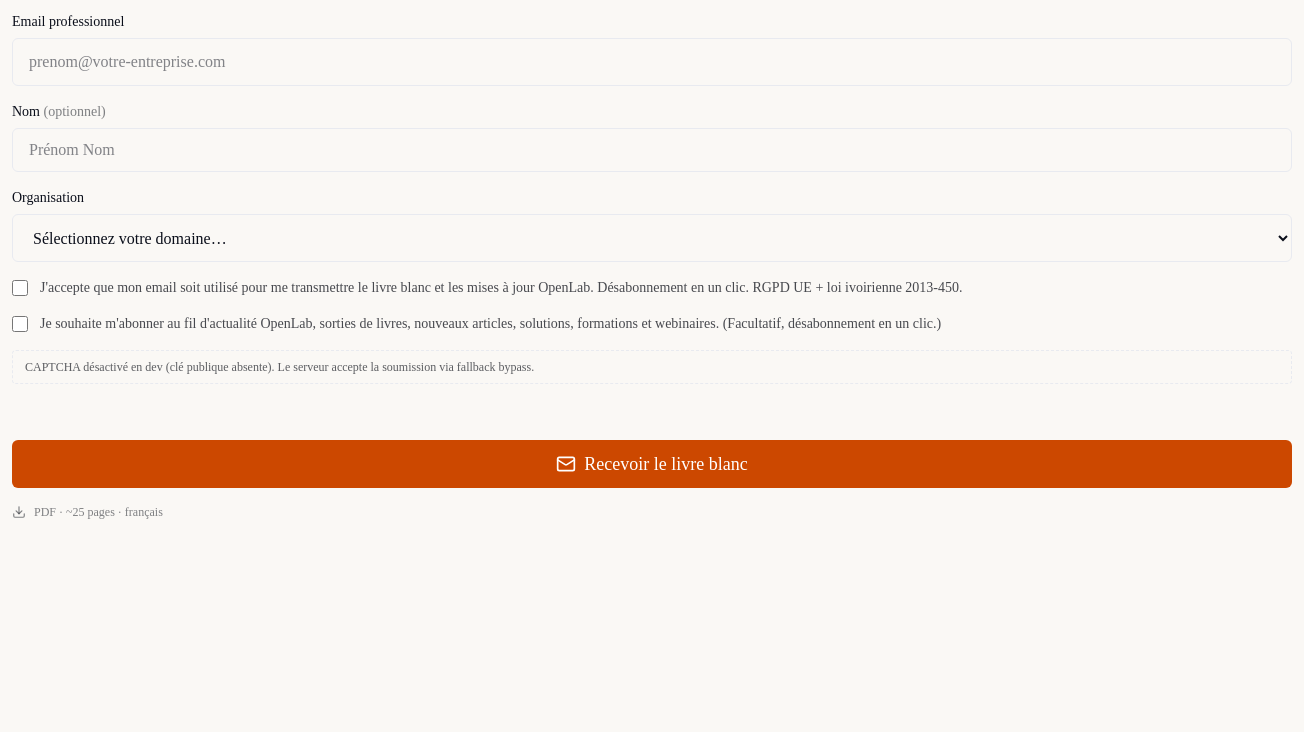
WhitepaperRequestForm › affiche un message rate-limit sur 429 avec retryAfter
The image size is (1304, 732).
Type "cto@banque-atlantique.ci" into the field labelled "Email professionnel". click: (652, 62)
box: [12, 38, 1292, 86]
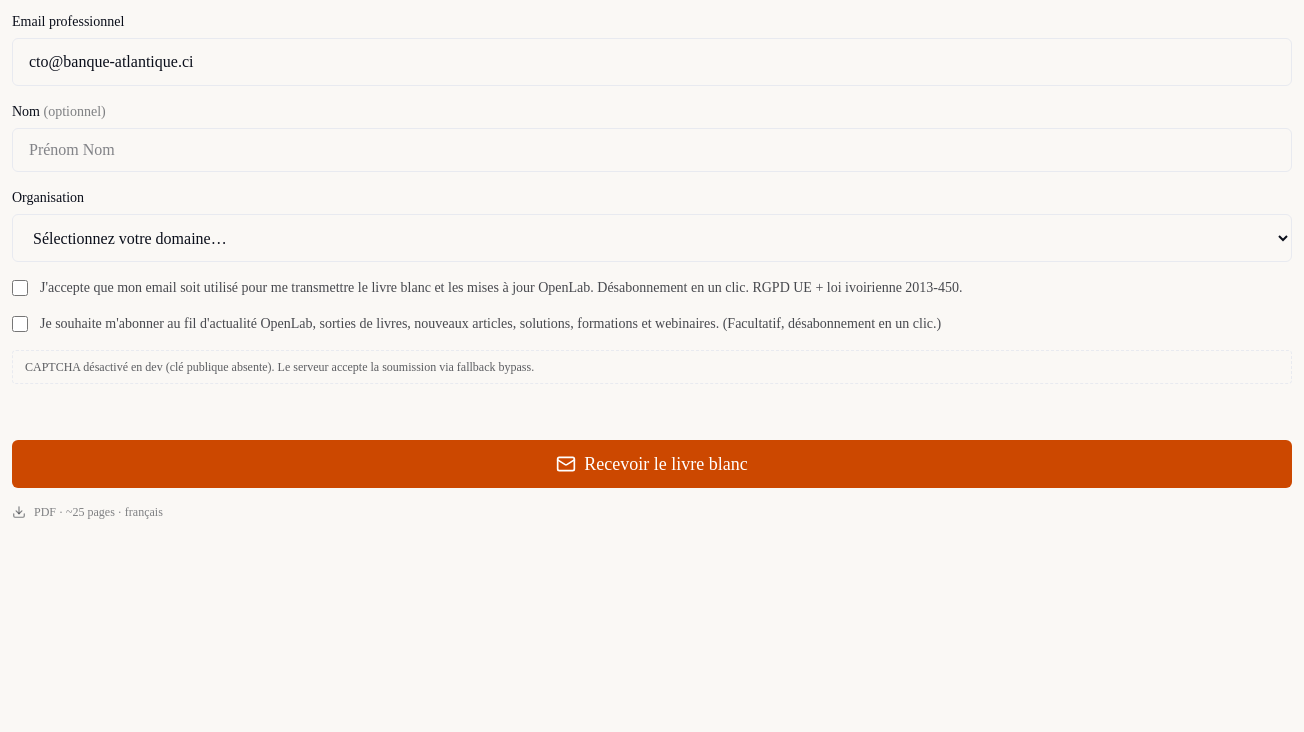
Click the checkbox labelled "accepte". click: click(20, 288)
box: [12, 280, 28, 296]
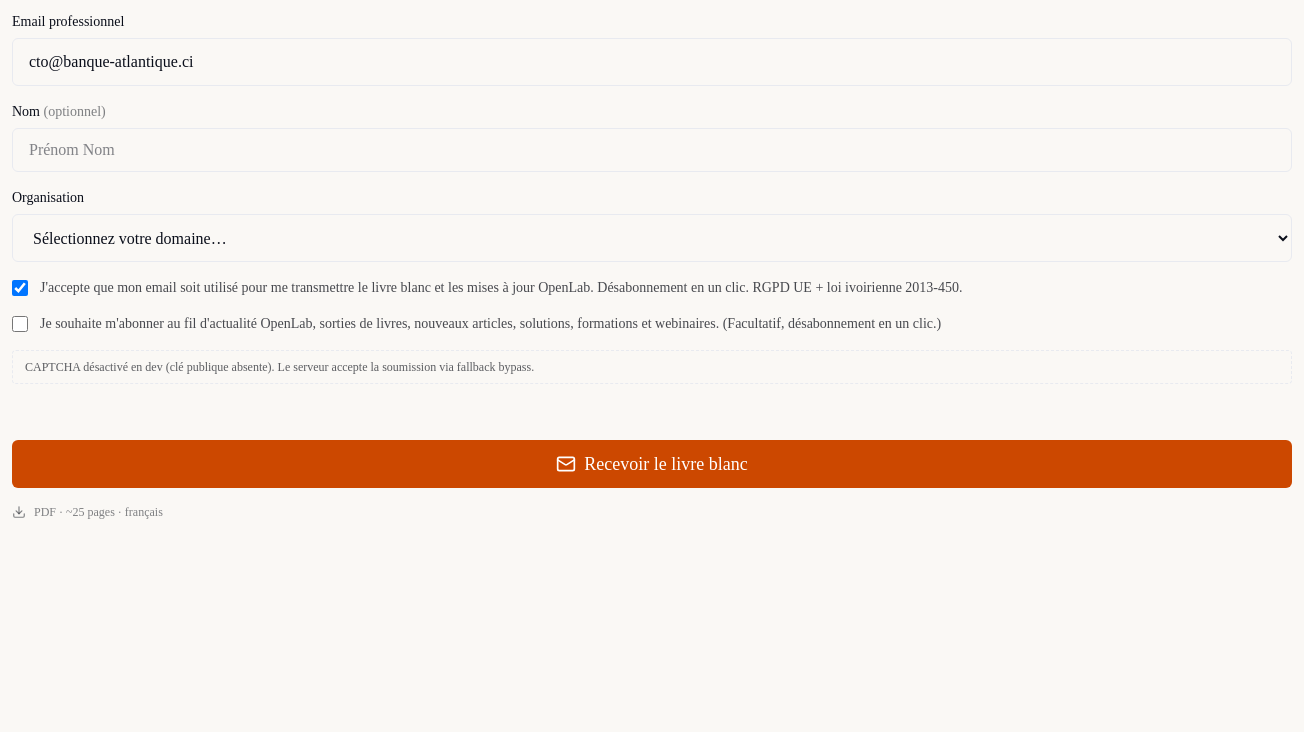
Submit the form named "Recevoir le livre blanc"
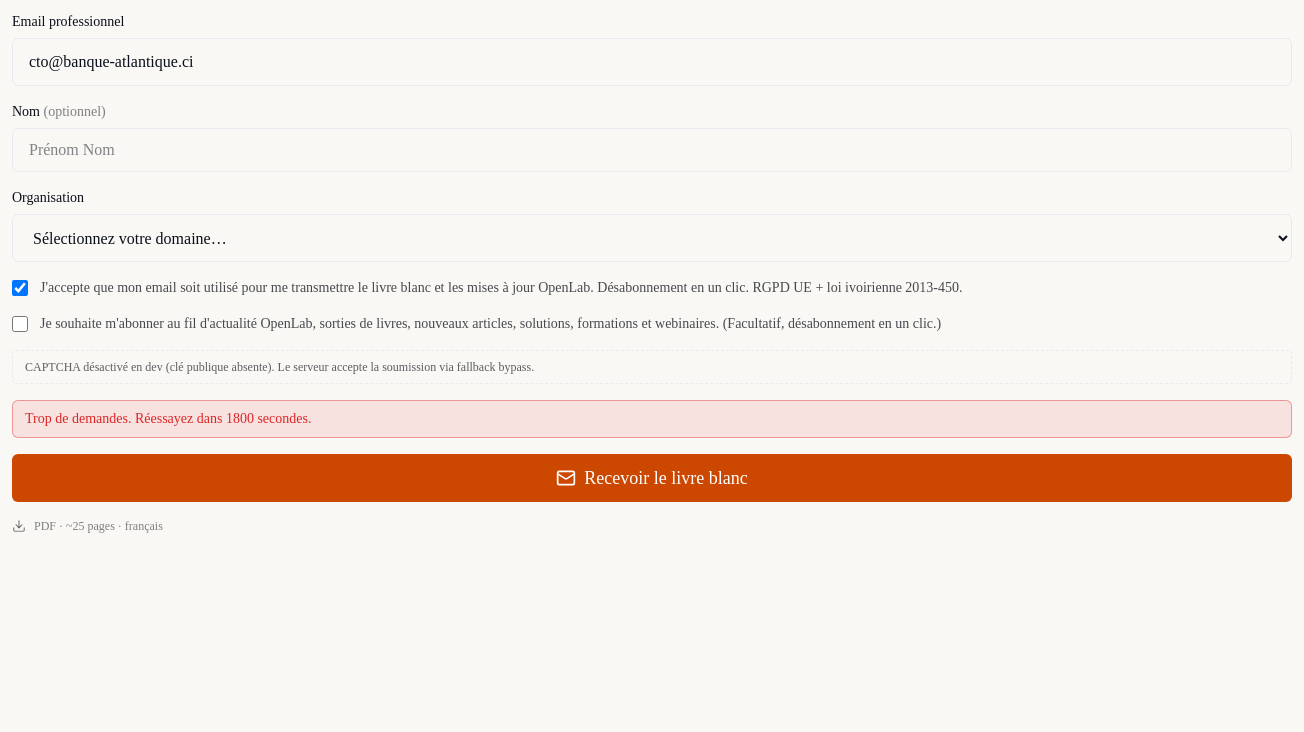
Check: the text "Trop de demandes. Réessayez dans 1800 secondes." is shown, box [12, 400, 1292, 438]
